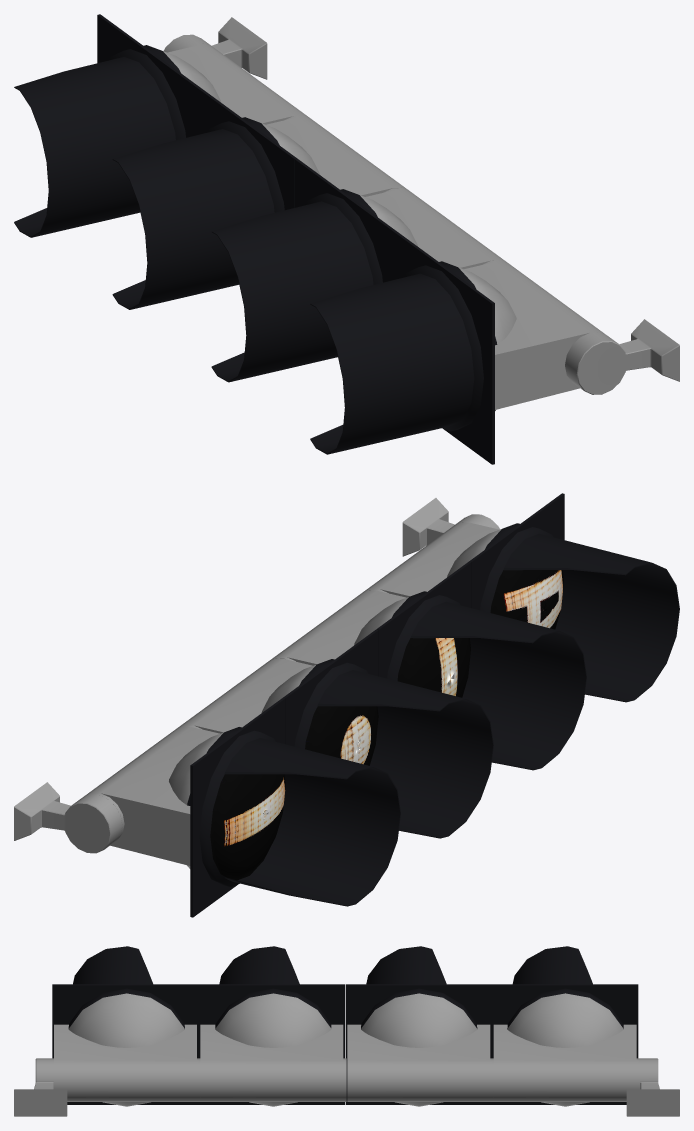
Rendered from Ampel_Strassenbahn_1_Mast.obj.
3 views of the same model, one above another, from view 1: azimuth 30°, elevation 25°; view 2: azimuth 150°, elevation 25°; view 3: azimuth 270°, elevation 25° (orthographic). The views are drawn at different scales.
Parts seen in each view (by area): view 1: Sonnenblende.002_Cylinder.002, Sonnenblende_Cylinder.002, Sonnenblende.001_Cylinder.002, Sonnenblende.003_Cylinder.003, Cube.004_Cube.002, Masthalterung_Cylinder.004, Blende.002_Cube.004, Cube.005_Cube.002, Cube.001_Cube.005, Cube.003_Cube.002, BezierCurve.003_BezierCurve.002, Blende.001_Cube.004 (+6 smaller); view 2: Sonnenblende.003_Cylinder.003, Sonnenblende.001_Cylinder.002, Sonnenblende.002_Cylinder.002, Sonnenblende_Cylinder.002, BezierCurve.004_BezierCurve.003, Cube.001_Cube.005, BezierCurve.001_BezierCurve, BezierCurve.002_BezierCurve.004, BezierCurve.003_BezierCurve.002, Masthalterung.001_Cylinder.004, Blende.003_Cube.003, Cube.003_Cube.002 (+6 smaller); view 3: Cube.003_Cube.002, Cube.005_Cube.002, Cube.001_Cube.005, Cube.004_Cube.002, BezierCurve.004_BezierCurve.003, BezierCurve.002_BezierCurve.004, BezierCurve.003_BezierCurve.002, BezierCurve.001_BezierCurve, Blende_Cube.004, Blende.001_Cube.004, Blende.003_Cube.003, Blende.002_Cube.004 (+6 smaller).
Part boxes in pixels (x1,y1,x2,y2): Sonnenblende.002_Cylinder.002: (310,273,474,454); Sonnenblende_Cylinder.002: (112,129,274,309); Sonnenblende.001_Cylinder.002: (211,201,373,382); Sonnenblende.003_Cylinder.003: (14,57,175,237); Cube.004_Cube.002: (464,260,607,409); Masthalterung_Cylinder.004: (565,319,679,394); Blende.002_Cube.004: (393,231,494,464); Cube.005_Cube.002: (266,115,409,196); Cube.001_Cube.005: (167,43,310,124); Cube.003_Cube.002: (365,188,508,269); BezierCurve.003_BezierCurve.002: (403,261,516,431); Blende.001_Cube.004: (295,158,395,282); Sonnenblende.003_Cylinder.003: (224,738,400,906); Sonnenblende.001_Cylinder.002: (410,601,586,770); Sonnenblende.002_Cylinder.002: (503,533,679,702); Sonnenblende_Cylinder.002: (317,670,493,838); BezierCurve.004_BezierCurve.003: (169,727,285,886); Cube.001_Cube.005: (82,726,219,865); BezierCurve.001_BezierCurve: (261,659,378,765); BezierCurve.002_BezierCurve.004: (354,591,470,697); BezierCurve.003_BezierCurve.002: (447,523,563,629); Masthalterung.001_Cylinder.004: (14,782,122,853); Blende.003_Cube.003: (190,697,285,917); Cube.003_Cube.002: (268,590,405,665); Cube.003_Cube.002: (200,1024,346,1101); Cube.005_Cube.002: (347,1024,493,1101); Cube.001_Cube.005: (493,1024,639,1101); Cube.004_Cube.002: (54,1024,200,1101); BezierCurve.004_BezierCurve.003: (507,988,623,1106); BezierCurve.002_BezierCurve.004: (215,988,331,1106); BezierCurve.003_BezierCurve.002: (68,988,184,1106); BezierCurve.001_BezierCurve: (361,988,477,1106); Blende_Cube.004: (345,984,491,1104); Blende.001_Cube.004: (198,984,344,1104); Blende.003_Cube.003: (492,984,638,1104); Blende.002_Cube.004: (52,984,198,1104).
Bounding box in the file's own units: 0.4823 × 0.2502 × 1.26.
6 materials, 6 textured.
